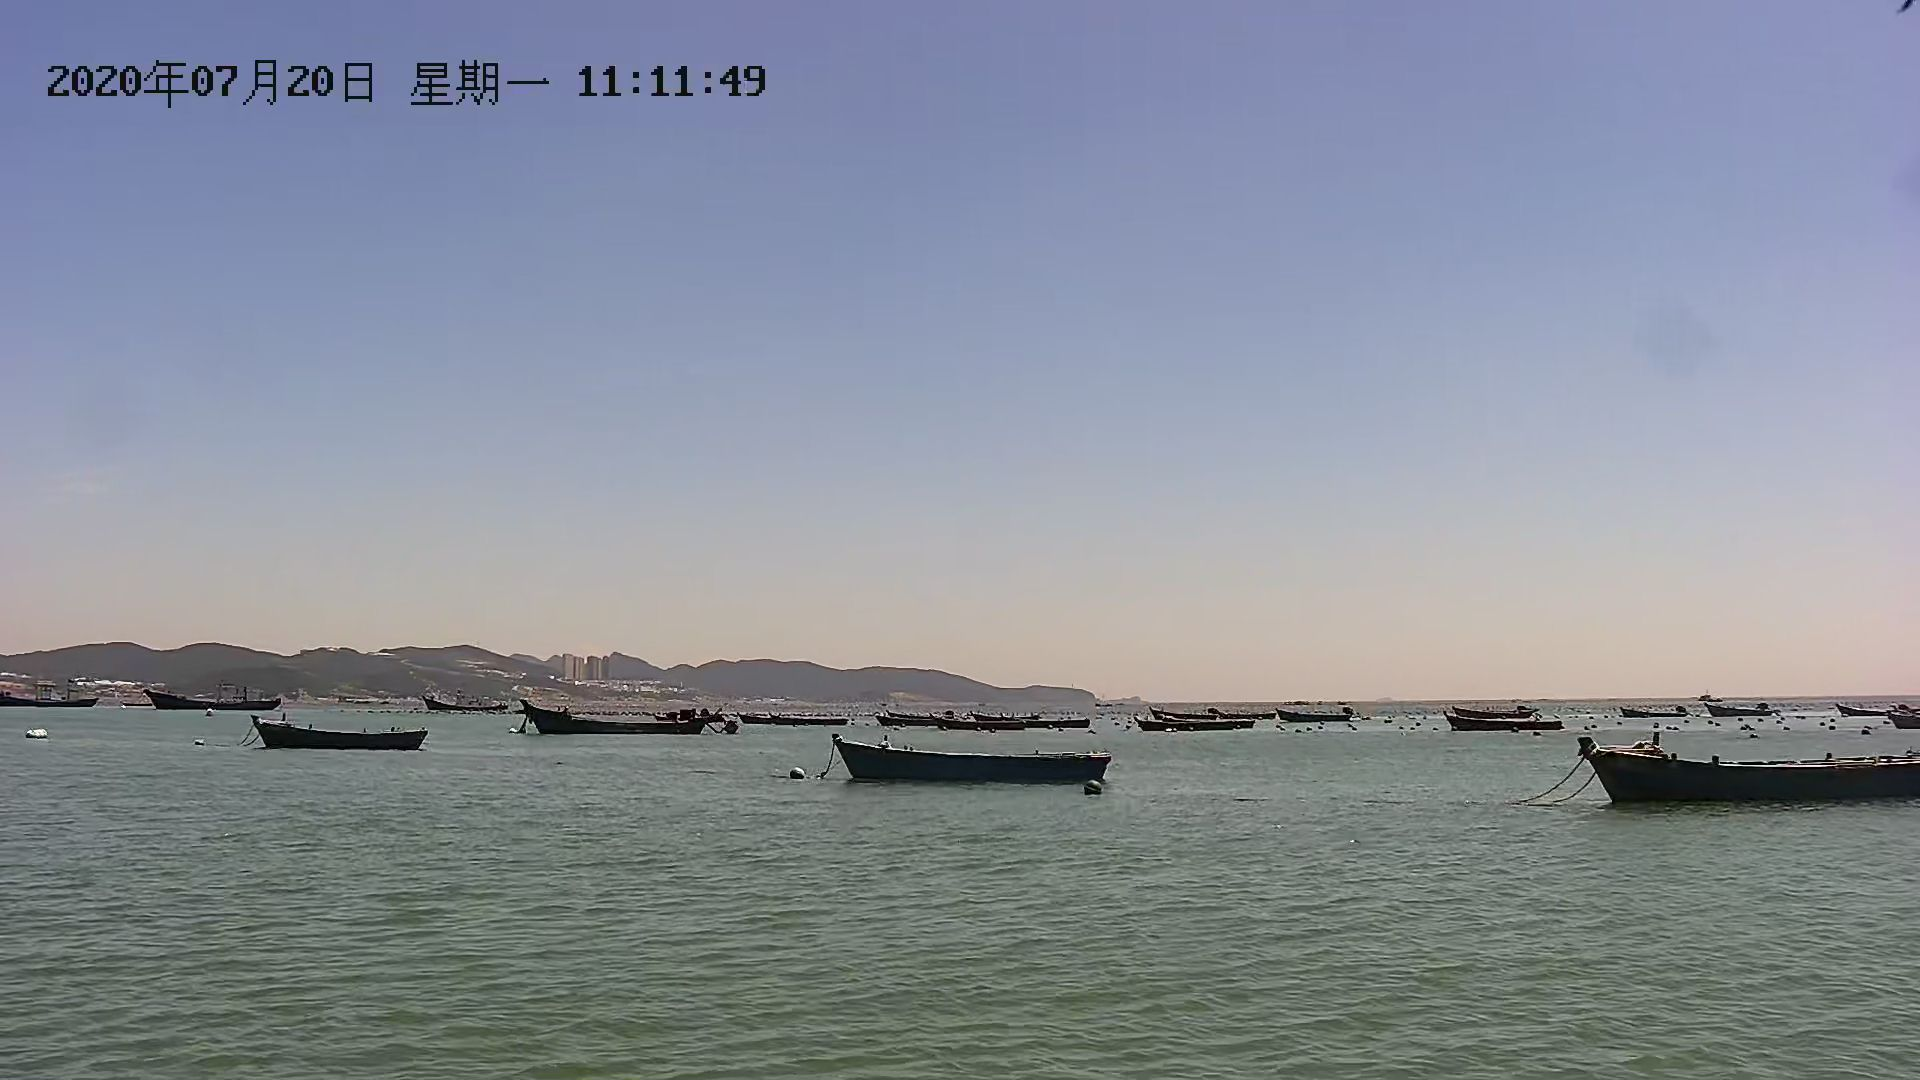ball: (789, 765, 818, 786), (1080, 775, 1101, 798)
boat: (1571, 731, 1920, 803), (833, 738, 1121, 781), (518, 698, 709, 738), (248, 713, 426, 753), (1441, 705, 1577, 735), (1137, 705, 1269, 733), (738, 698, 858, 728), (156, 690, 285, 715), (1275, 698, 1369, 728)
